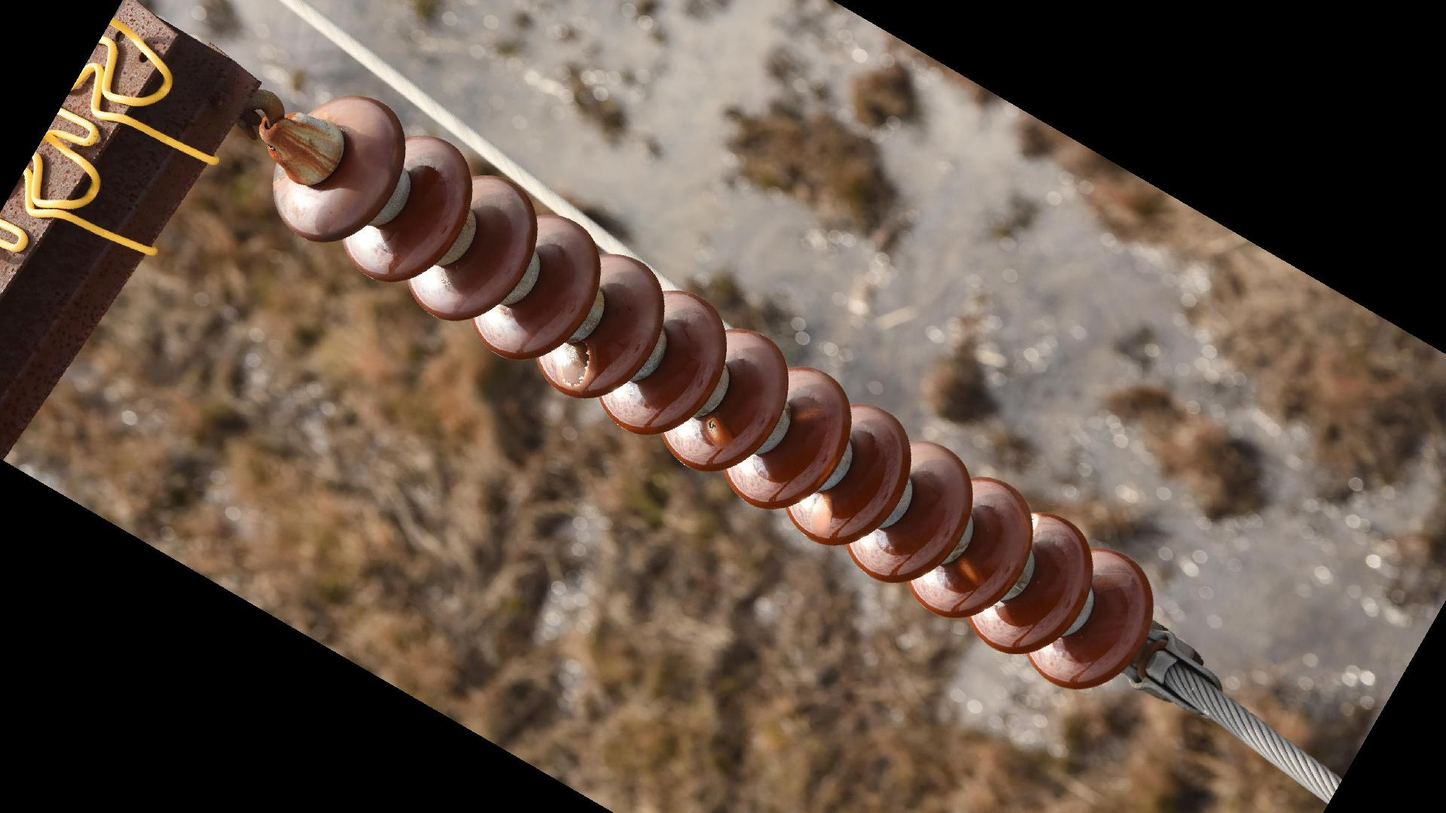insulator: (264, 90, 1161, 695)
insulator_flashover: (553, 337, 593, 389), (808, 492, 835, 539), (703, 415, 733, 452), (955, 556, 981, 586)
